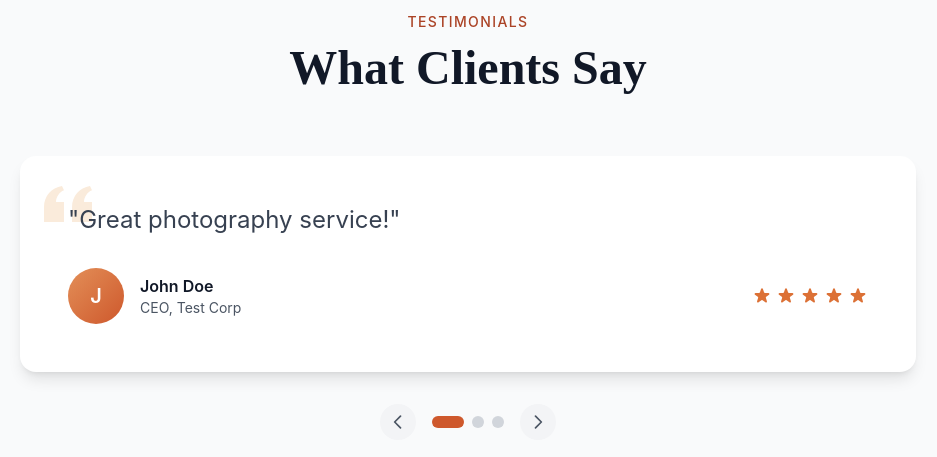
Test: TestimonialsSection › shows next testimonial when clicking next button
Click the button named "next testimonial" at (538, 422), box [520, 404, 556, 440]
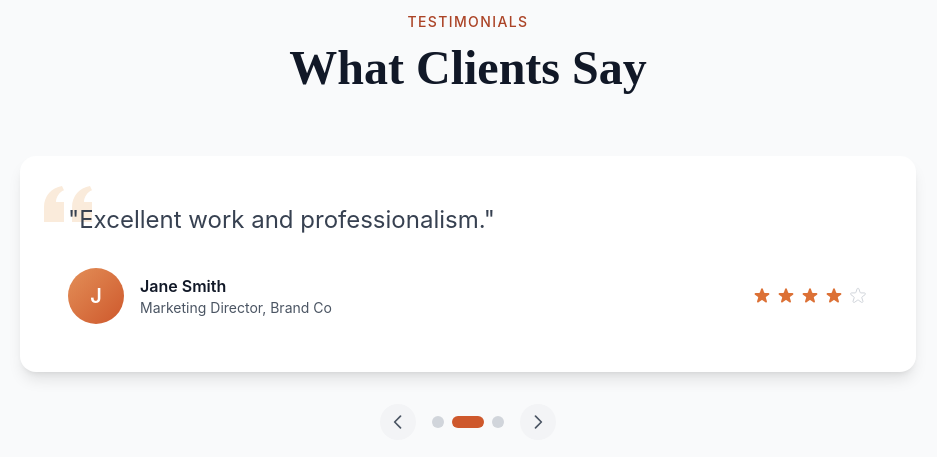
expect the text "\"Excellent work and professionalism.\"" is shown: met, box [68, 205, 495, 234]
expect the text "Jane Smith" is shown: met, box [140, 276, 226, 296]
